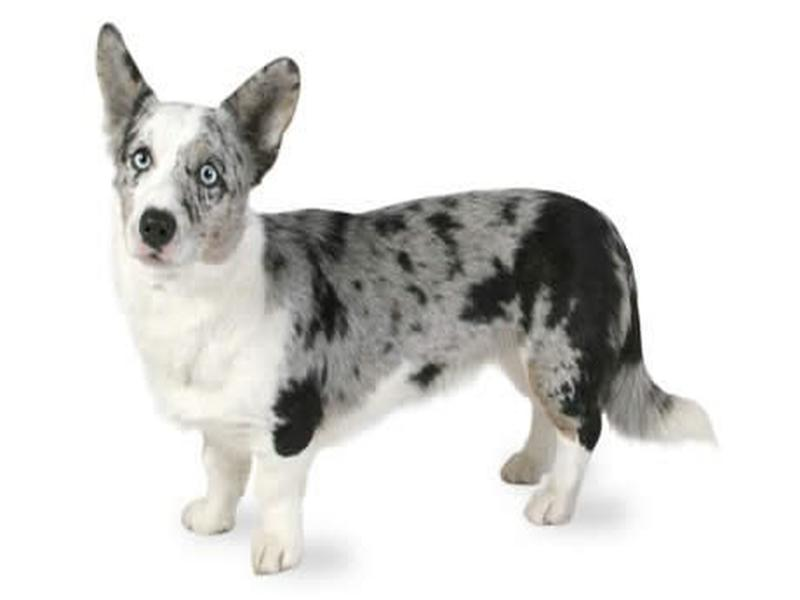corgi: (88, 20, 303, 276)
